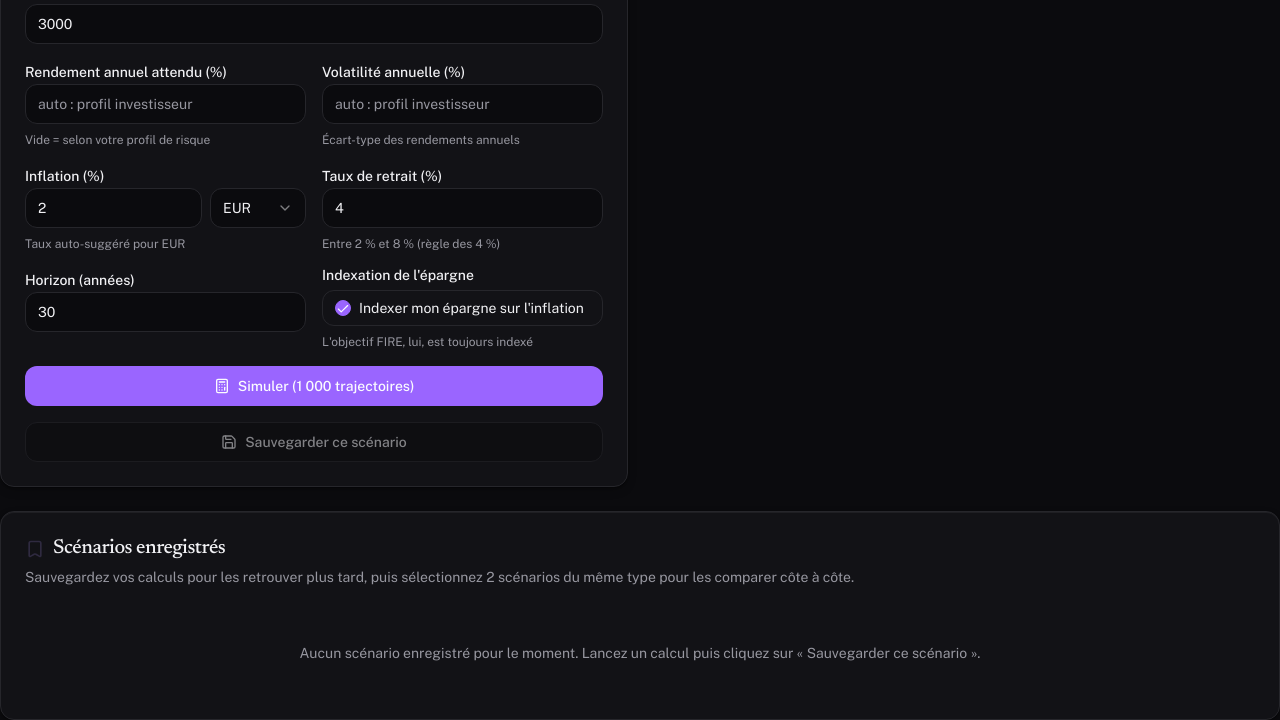
it: SimulationsPage — sauvegarde de scénario › refuse d'enregistrer un scénario sans nom
(page scrolled)
Click the button "Simuler (1 000 trajectoires)" at (314, 386), box [25,366,603,406]
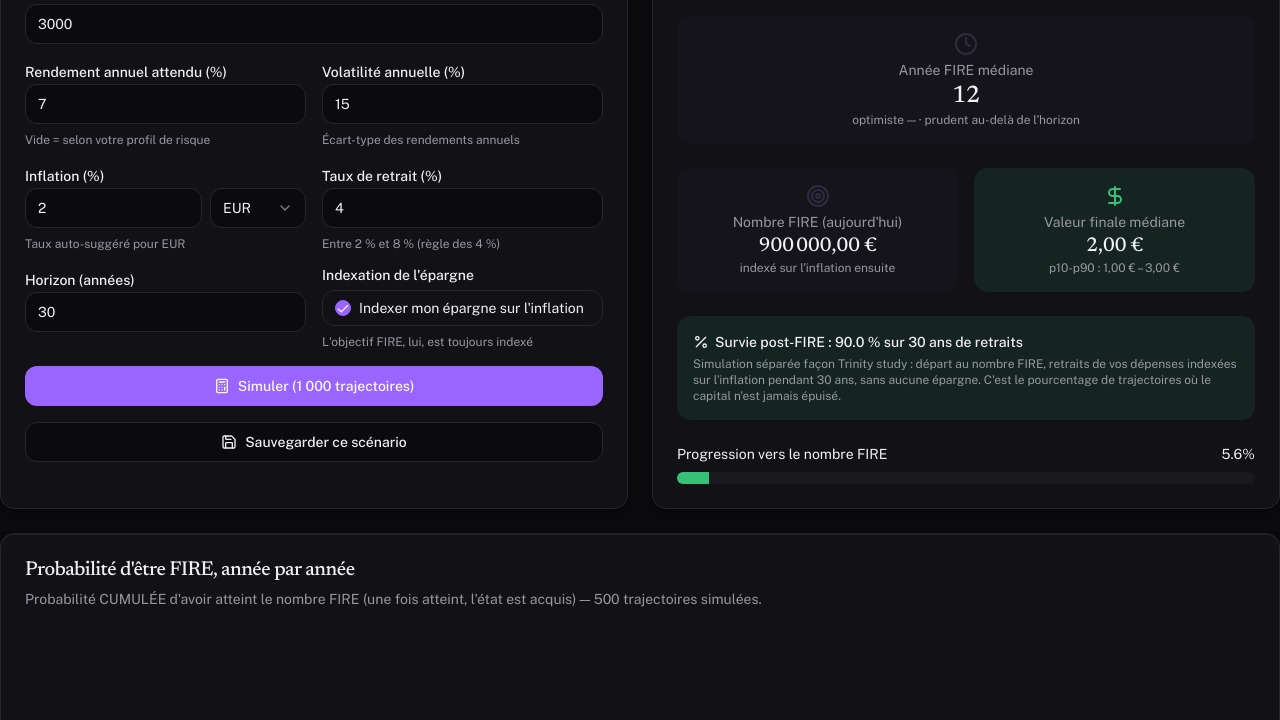
Click the button "Sauvegarder ce scénario" at (314, 442), box [25,422,603,462]
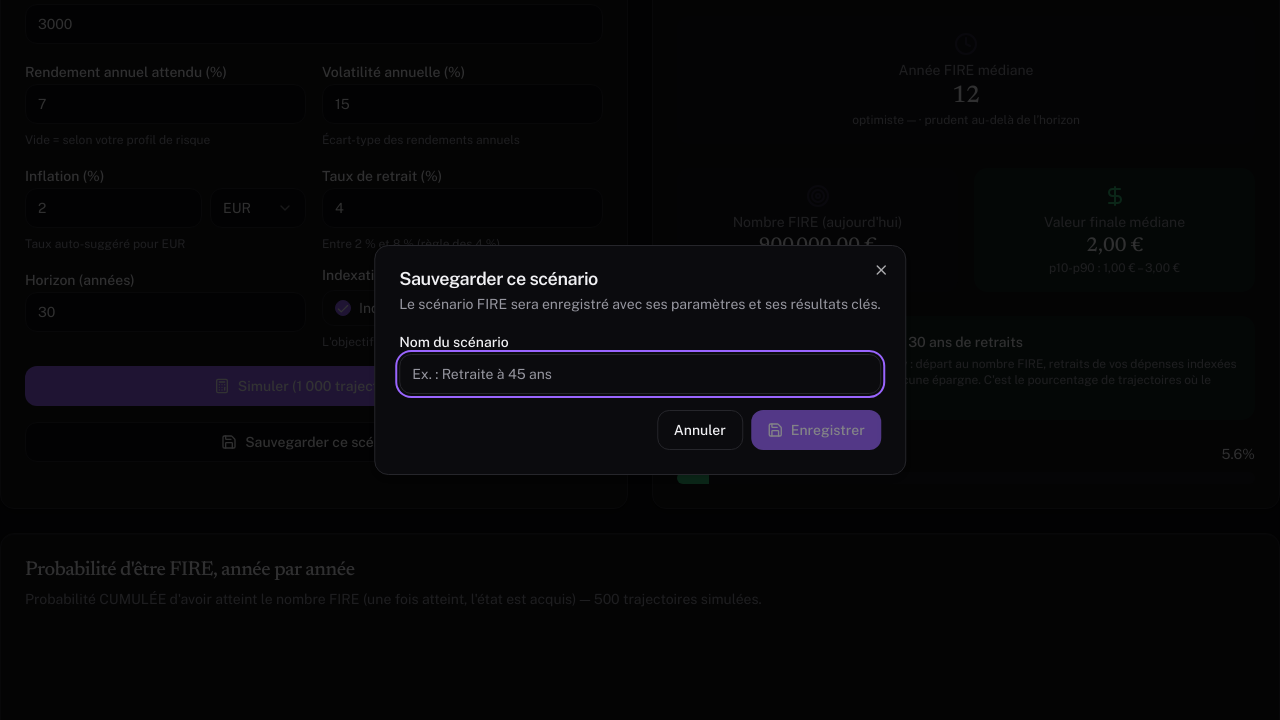
Expected: the button "Enregistrer" is disabled, [751,410,881,450]
